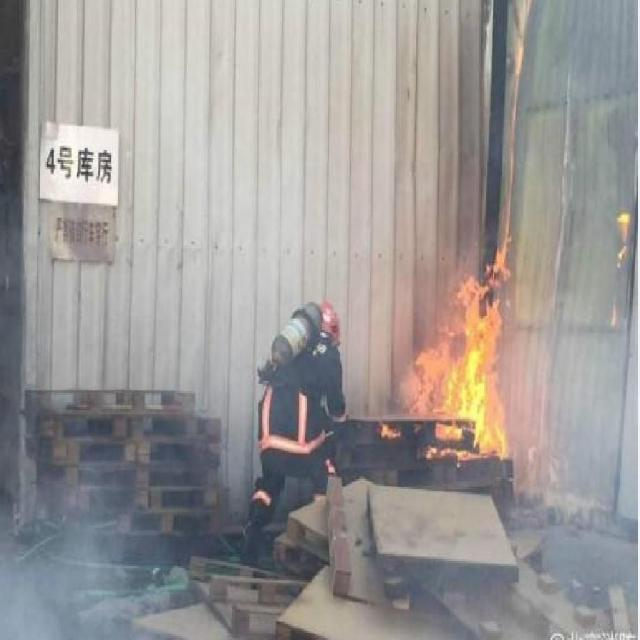Fire: (379, 233, 517, 470), (614, 210, 630, 268)
Smoke: (0, 517, 140, 640)
